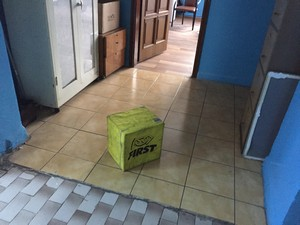cube: (104, 111, 164, 170)
